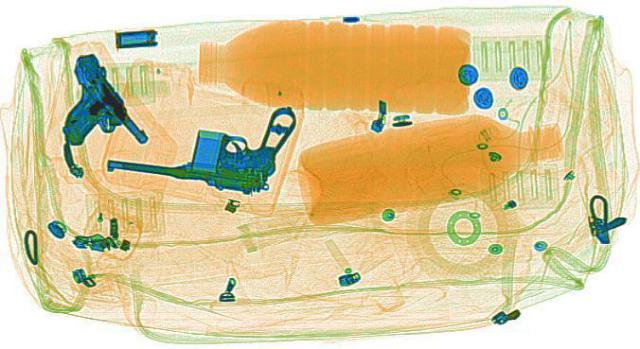Gun: (101, 86, 319, 197), (8, 52, 162, 156)
